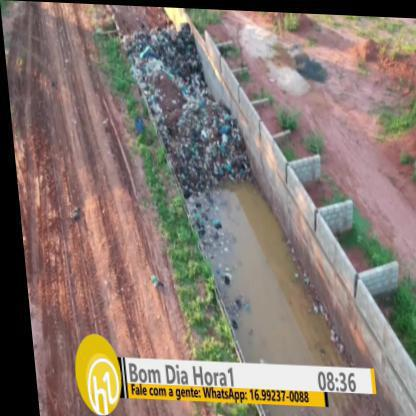agua: (220, 214, 288, 357)
lixo: (144, 34, 219, 163)
